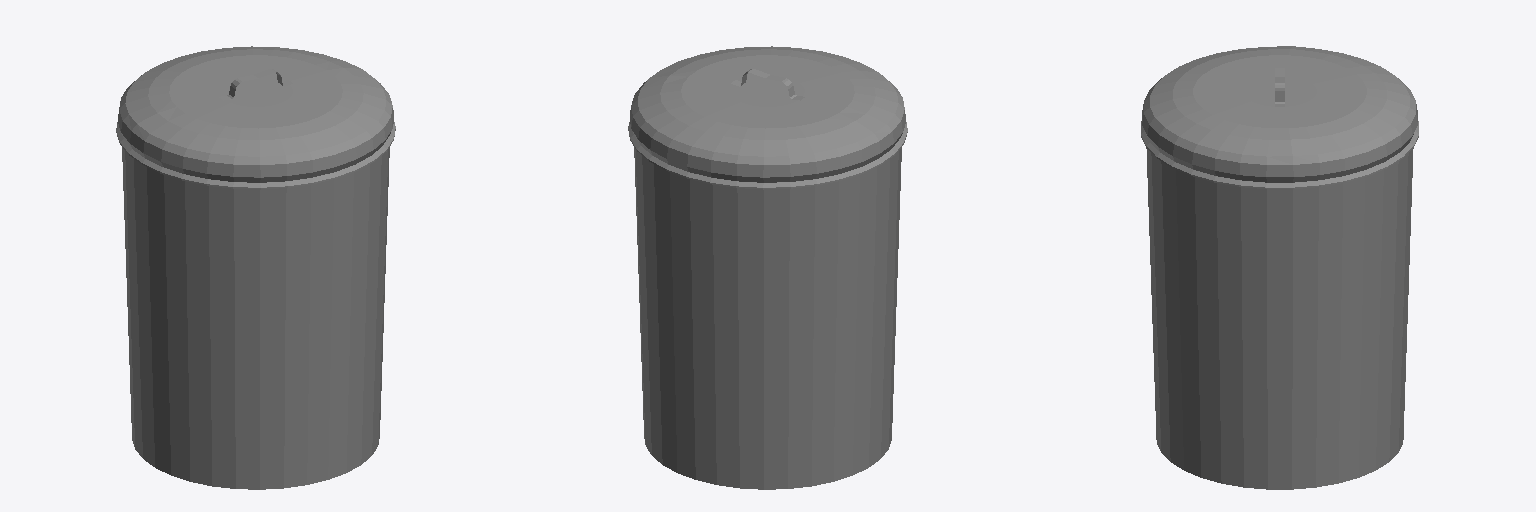
File: trashcan_lod3.obj
3 renders of one model, left to right at view 1: azimuth 30°, elevation 25°; view 2: azimuth 150°, elevation 25°; view 3: azimuth 270°, elevation 25°, orthographic.
Visible parts, largest first — view 1: trashcan_lod3; view 2: trashcan_lod3; view 3: trashcan_lod3.
Boxes of the visible parts, <box> form: trashcan_lod3: <box>116,46,395,489</box>; trashcan_lod3: <box>628,46,907,489</box>; trashcan_lod3: <box>1141,46,1418,489</box>.
Bounding box in the file's own units: 45.74 × 65.77 × 45.74.